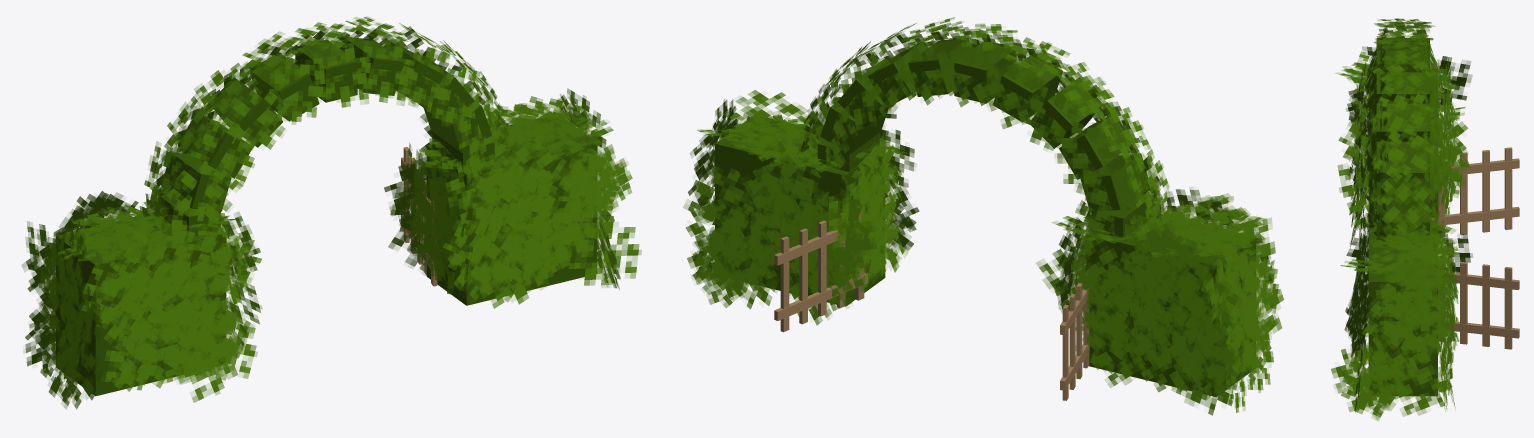
Rendered from hedge_gate.glb.
3 renders of one model, left to right at view 1: azimuth 30°, elevation 25°; view 2: azimuth 150°, elevation 25°; view 3: azimuth 270°, elevation 25°, orthographic. The views are drawn at different scales.
Parts seen in each view (by area): view 1: hedge_gate_Leaf_Hedge, hedge_gate_Core_Hedge, hedge_gate_Trellis_Wood; view 2: hedge_gate_Leaf_Hedge, hedge_gate_Core_Hedge, hedge_gate_Trellis_Wood; view 3: hedge_gate_Leaf_Hedge, hedge_gate_Core_Hedge, hedge_gate_Trellis_Wood.
Part boxes in pixels (x1=…): hedge_gate_Leaf_Hedge: x1=21, y1=16, x2=641, y2=409; hedge_gate_Core_Hedge: x1=56, y1=37, x2=597, y2=396; hedge_gate_Trellis_Wood: x1=401, y1=147, x2=437, y2=286; hedge_gate_Leaf_Hedge: x1=683, y1=17, x2=1283, y2=415; hedge_gate_Core_Hedge: x1=715, y1=38, x2=1256, y2=396; hedge_gate_Trellis_Wood: x1=774, y1=206, x2=1089, y2=400; hedge_gate_Leaf_Hedge: x1=1331, y1=18, x2=1472, y2=421; hedge_gate_Core_Hedge: x1=1368, y1=38, x2=1437, y2=396; hedge_gate_Trellis_Wood: x1=1430, y1=147, x2=1519, y2=349.
Size of the model in its own units: 6.57 by 3.57 by 2.21.
3 materials, 1 textured.
